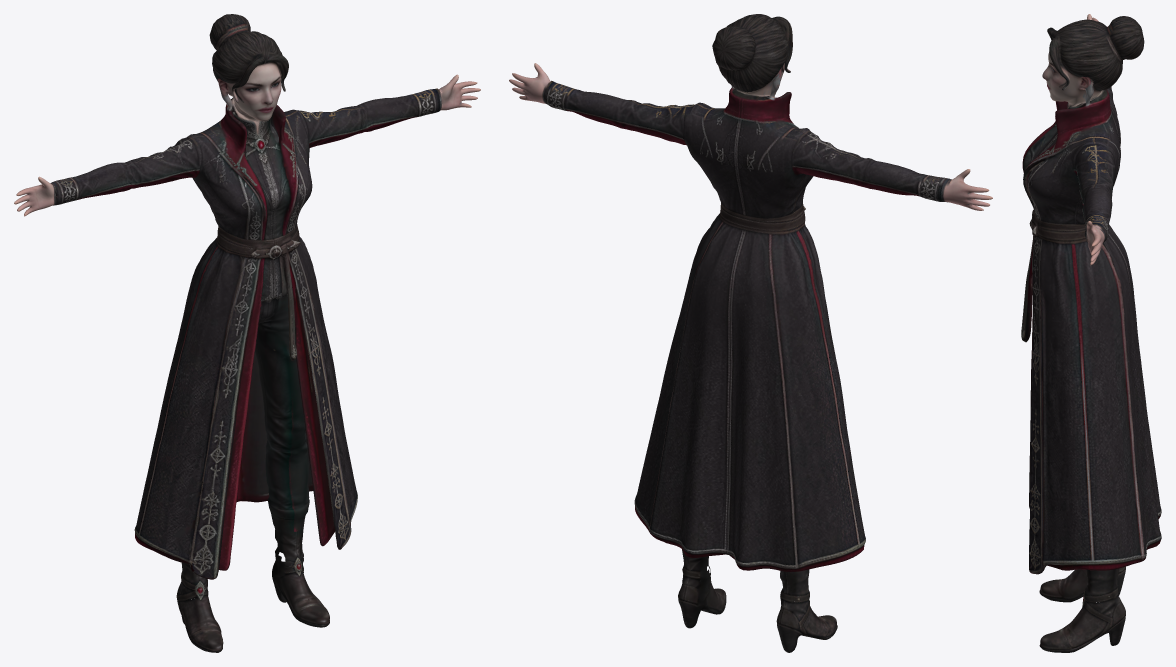
The model's file is fantasy character 3d model(1).glb.
3 views of the same model, side by side, from view 1: azimuth 30°, elevation 25°; view 2: azimuth 150°, elevation 25°; view 3: azimuth 270°, elevation 25° (orthographic). The views are drawn at different scales.
Visible parts, largest first — view 1: tripo_node_e2dc2eea; view 2: tripo_node_e2dc2eea; view 3: tripo_node_e2dc2eea.
Part boxes in pixels (x1,y1,x2,y2): tripo_node_e2dc2eea: (14, 14, 480, 652); tripo_node_e2dc2eea: (509, 14, 992, 652); tripo_node_e2dc2eea: (1021, 14, 1161, 652).
Bounding box in the file's own units: 80.29 × 98.02 × 20.63.
Materials: 1 (1 with a texture image).
